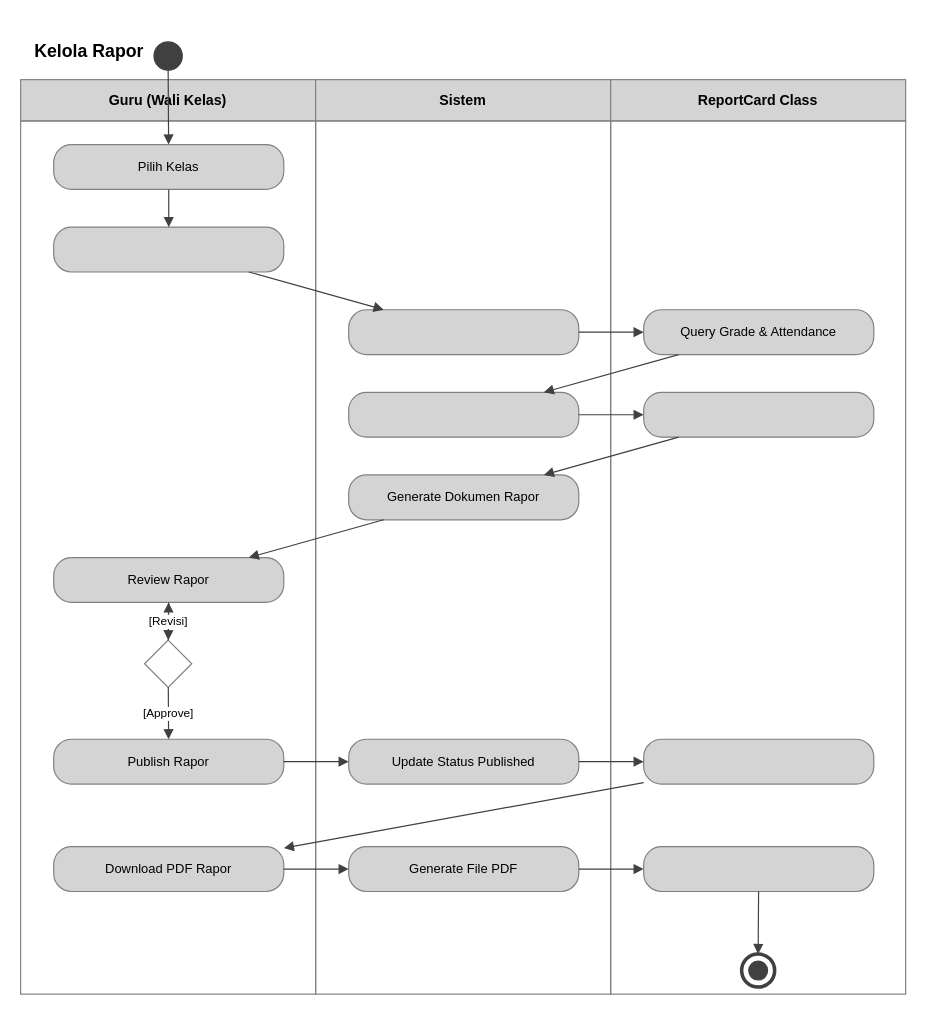
The diagram is 926 pixels wide and 1015 high, and some of its shapes have lost their labels. The centre of each missing label's shape, as x and y in pixels:
Create ReportCard Record: (758,414)
Generate Rapor: (168,249)
Kalkulasi Nilai Akhir: (463,414)
Kumpulkan Data Nilai & Absensi: (463,332)
Read ReportCard Data: (758,868)
Update ReportCard.status: (758,761)
